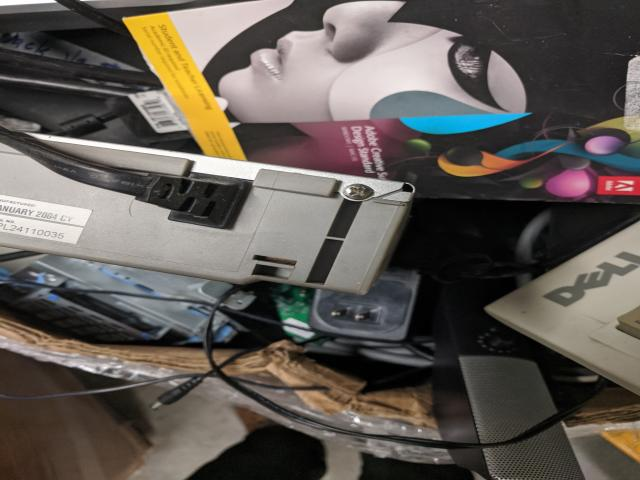CRS: (342, 183, 374, 202)
